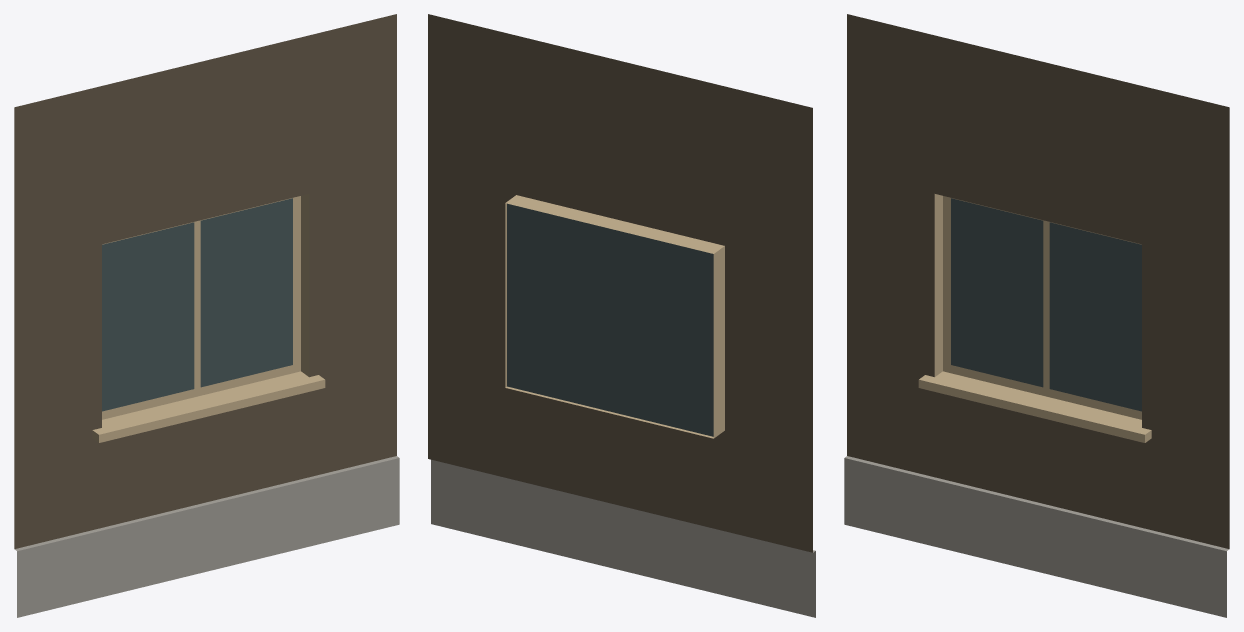
The picture shows the model from 3 angles, left to right: view 1: azimuth 30°, elevation 25°; view 2: azimuth 150°, elevation 25°; view 3: azimuth 330°, elevation 25°; orthographic projection.
Parts seen in each view (by area): view 1: a2015/400/base-w3; view 2: a2015/400/base-w3; view 3: a2015/400/base-w3.
Part boxes in pixels (left/top/right/bottom): a2015/400/base-w3: left=14, top=14, right=399, bottom=617; a2015/400/base-w3: left=428, top=14, right=815, bottom=617; a2015/400/base-w3: left=844, top=14, right=1229, bottom=617.
Bounding box in the file's own units: 2.4 × 3.05 × 0.19.
